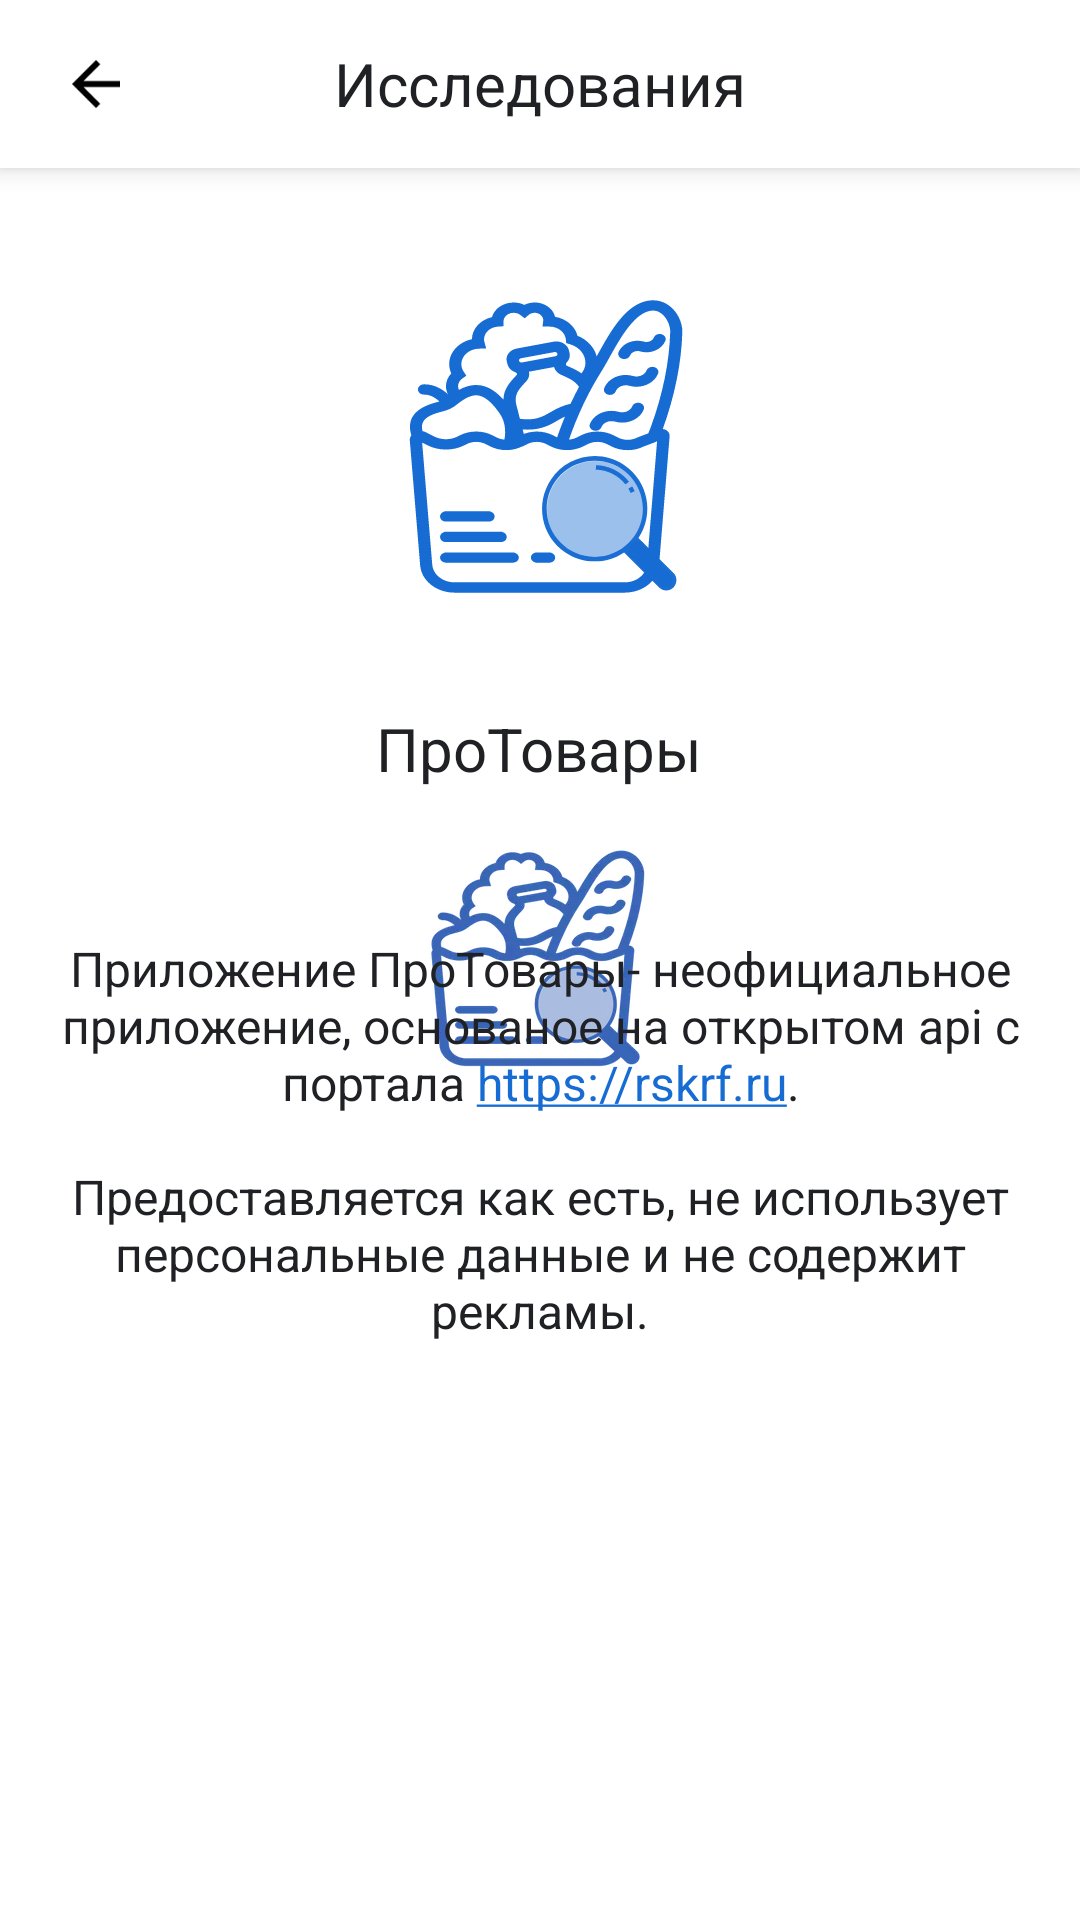

Named icons in this screenshot (1080*1920) and their centers, [x,y]:
arrow back: [96,84]
